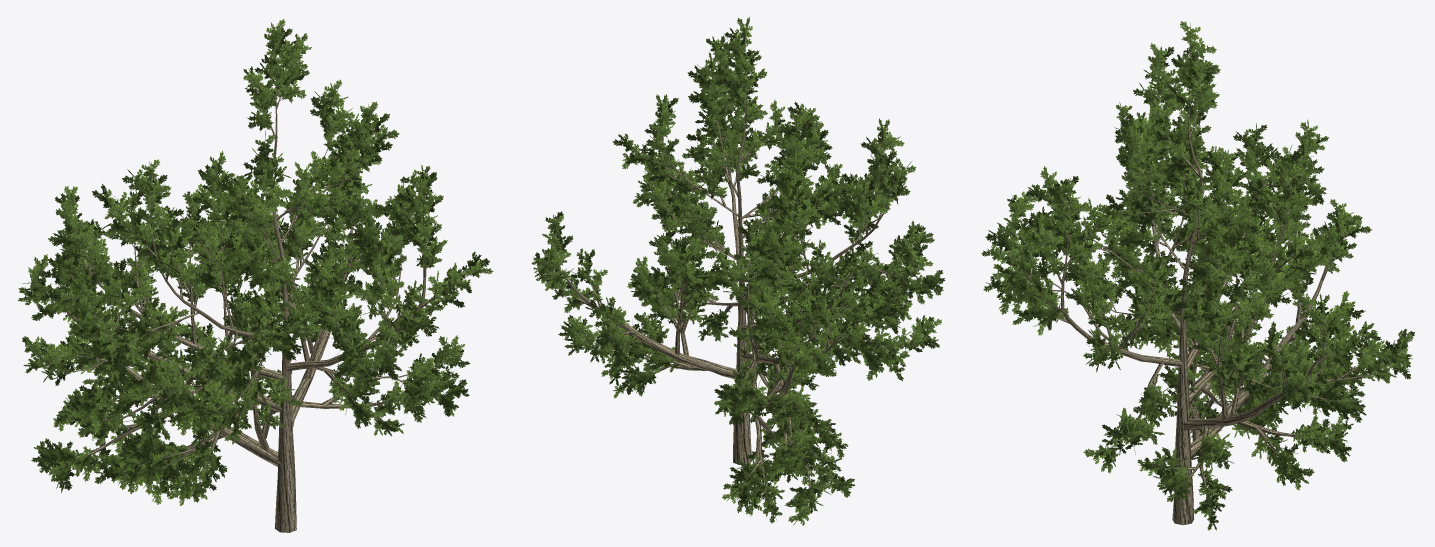
The model's file is ez-oak.glb.
3 renders of one model, left to right at view 1: azimuth 30°, elevation 25°; view 2: azimuth 150°, elevation 25°; view 3: azimuth 270°, elevation 25°, orthographic. The views are drawn at different scales.
Parts seen in each view (by area): view 1: Tree; view 2: Tree; view 3: Tree.
Boxes of the visible parts, x1=… form: Tree: x1=18, y1=19, x2=493, y2=532; Tree: x1=531, y1=17, x2=945, y2=525; Tree: x1=981, y1=21, x2=1414, y2=530.
Bounding box in the file's own units: 61.13 × 70.24 × 56.03.
Materials: 2 (2 with a texture image).
